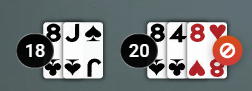4: (164, 20, 189, 46)
8: (186, 20, 207, 45), (41, 21, 63, 44), (146, 21, 167, 44)
j: (61, 20, 84, 45)
